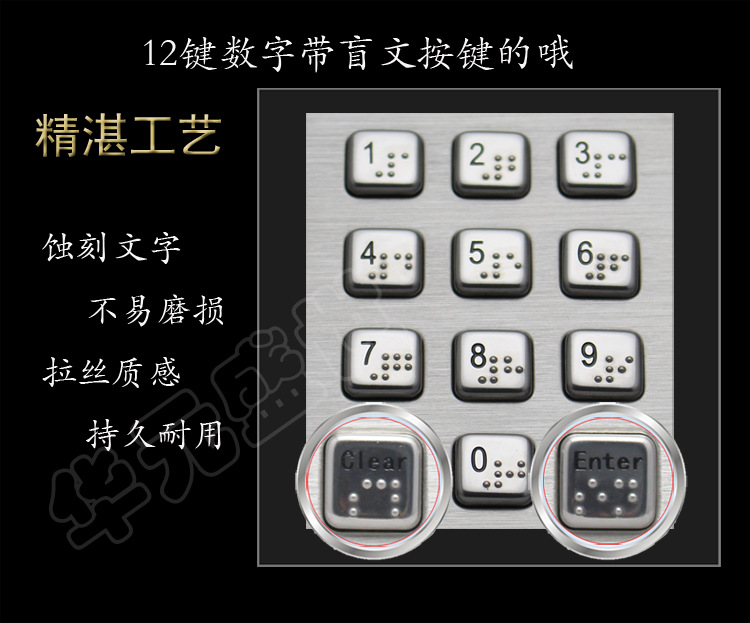Braille: (346, 474, 373, 517), (615, 476, 640, 517), (589, 476, 612, 517), (379, 475, 401, 517), (565, 474, 586, 518), (508, 457, 530, 493), (503, 353, 525, 388), (617, 351, 639, 386), (584, 250, 607, 282), (593, 352, 614, 387), (610, 253, 632, 286), (484, 458, 506, 491), (370, 350, 391, 383), (393, 250, 416, 280), (375, 149, 397, 180), (480, 250, 501, 282), (366, 252, 388, 282), (394, 350, 414, 383), (479, 354, 499, 387), (507, 250, 526, 284), (402, 149, 420, 183), (484, 153, 504, 183), (607, 153, 628, 181), (509, 153, 526, 185), (584, 152, 603, 180)
